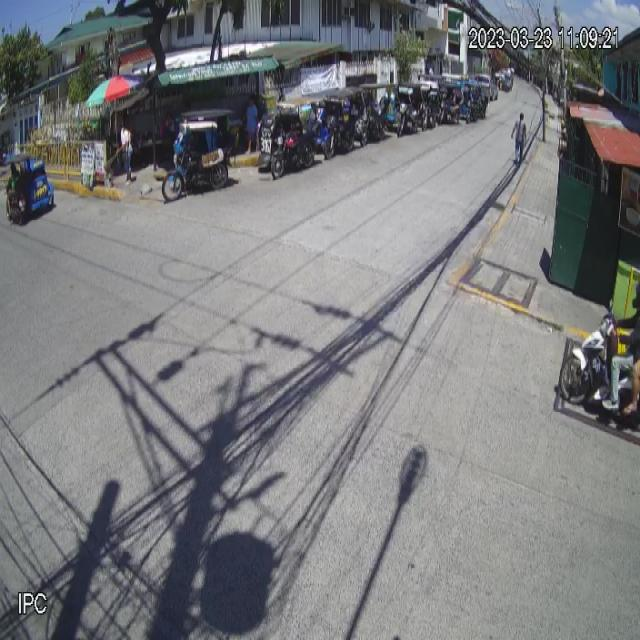Tricycle: (4, 153, 54, 226)
